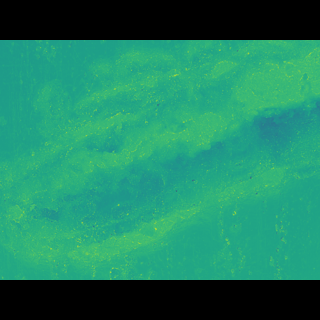Loch: (0, 68, 320, 241)
